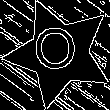O_S: (35, 26, 83, 81)
